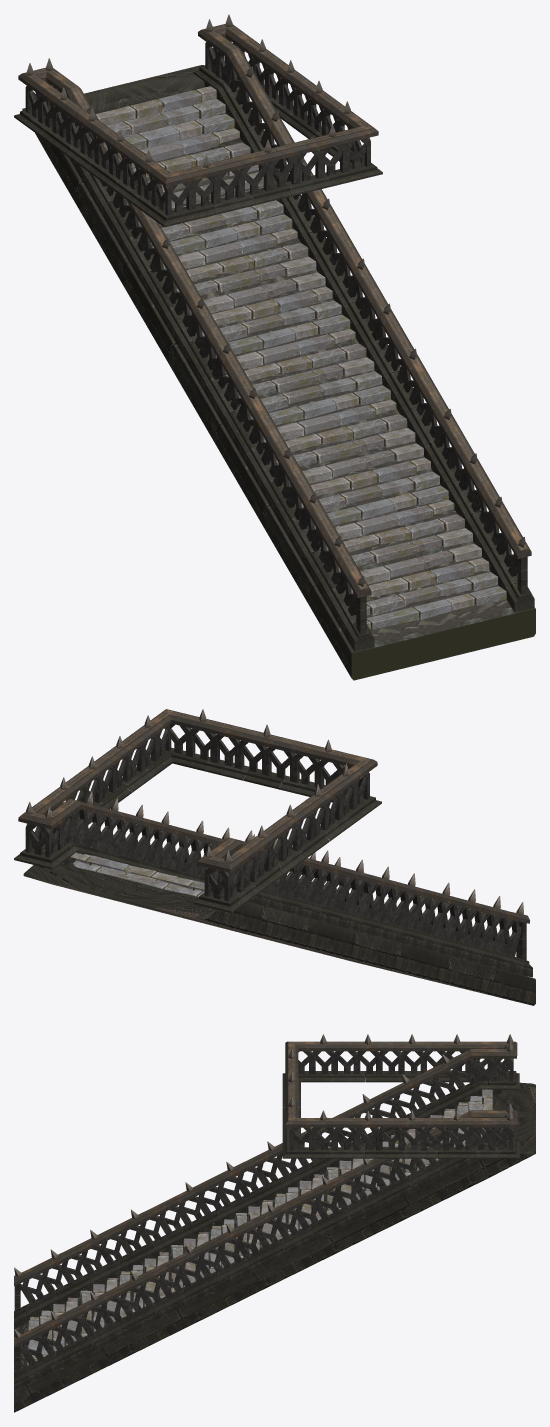
3 views of the same model, one above another, from view 1: azimuth 30°, elevation 25°; view 2: azimuth 150°, elevation 25°; view 3: azimuth 270°, elevation 25° (orthographic). The views are drawn at different scales.
Parts seen in each view (by area): view 1: SM_Greathall_Stepset_01_LOD0; view 2: SM_Greathall_Stepset_01_LOD0; view 3: SM_Greathall_Stepset_01_LOD0.
Boxes of the visible parts, x1,y1,x2,y2 form: SM_Greathall_Stepset_01_LOD0: (14,14,535,680); SM_Greathall_Stepset_01_LOD0: (14,709,535,1005); SM_Greathall_Stepset_01_LOD0: (14,1034,535,1412).
Bounding box in the file's own units: 7.71 × 13.11 × 20.25.
4 materials, 4 textured.
